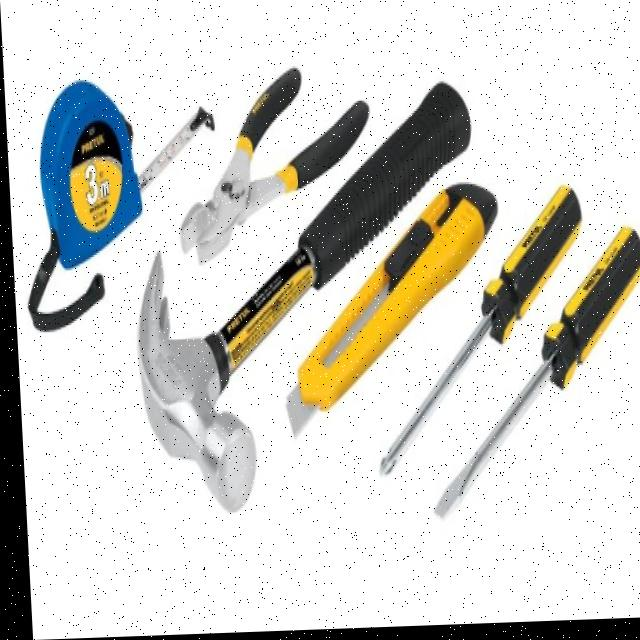Screwdriver: (429, 232, 640, 520), (376, 191, 579, 475)
